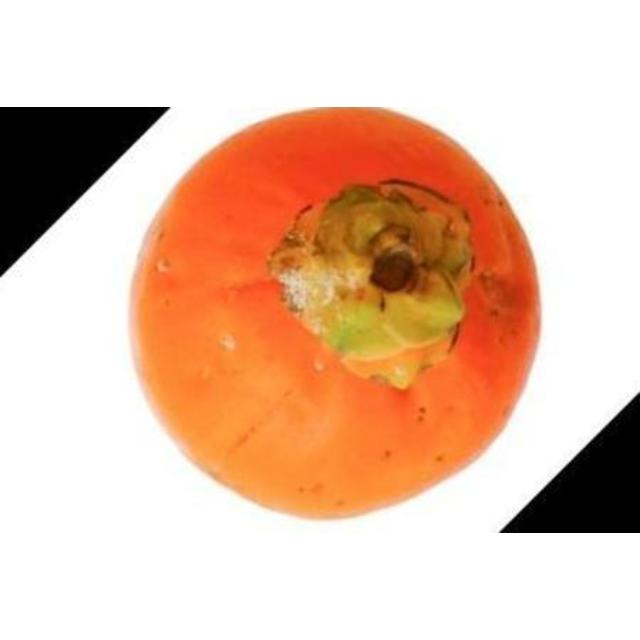good: (127, 107, 543, 522)
